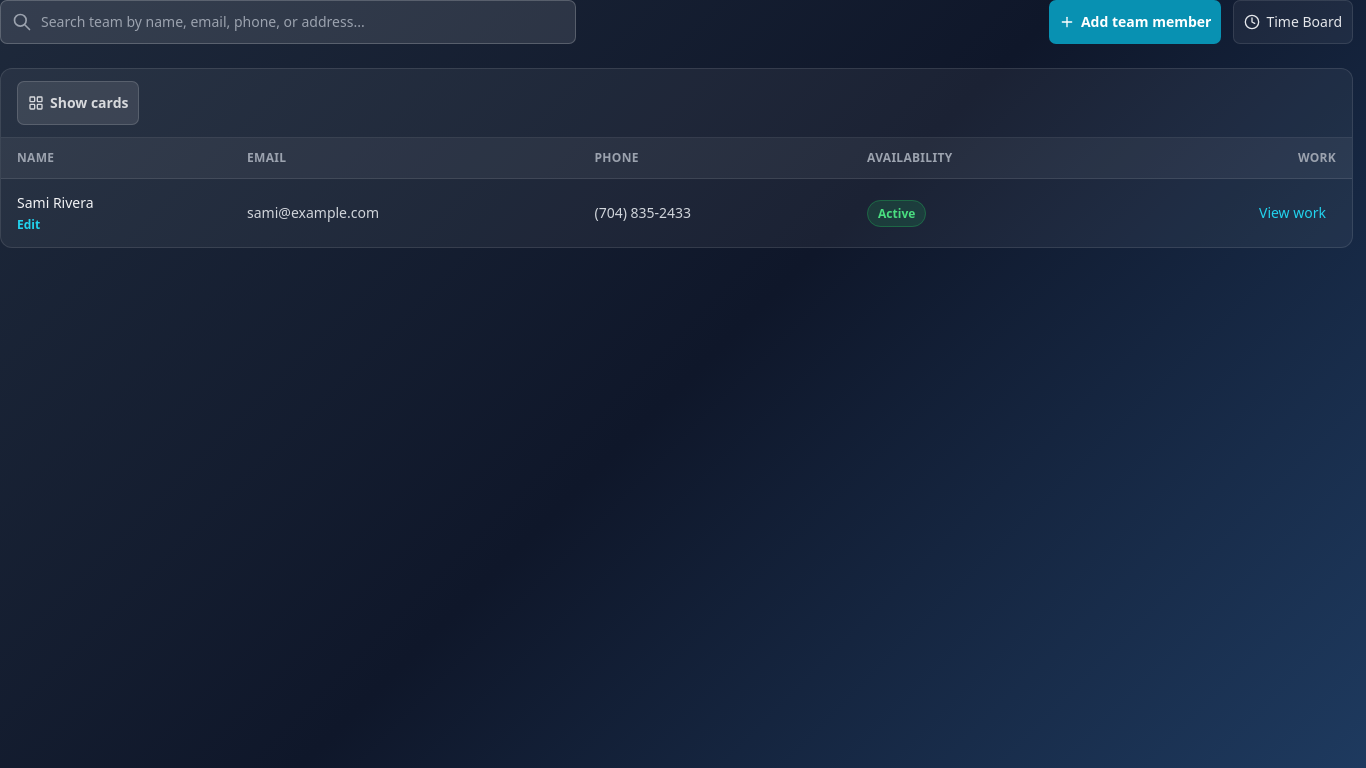
Scenario: MechanicsPage technician editing › keeps the technician dialog outside the scrolling team surface and cancels without saving
The width and height of the screenshot is (1366, 768).
Click the button "Edit" at [116, 225], box [17,217,215,233]
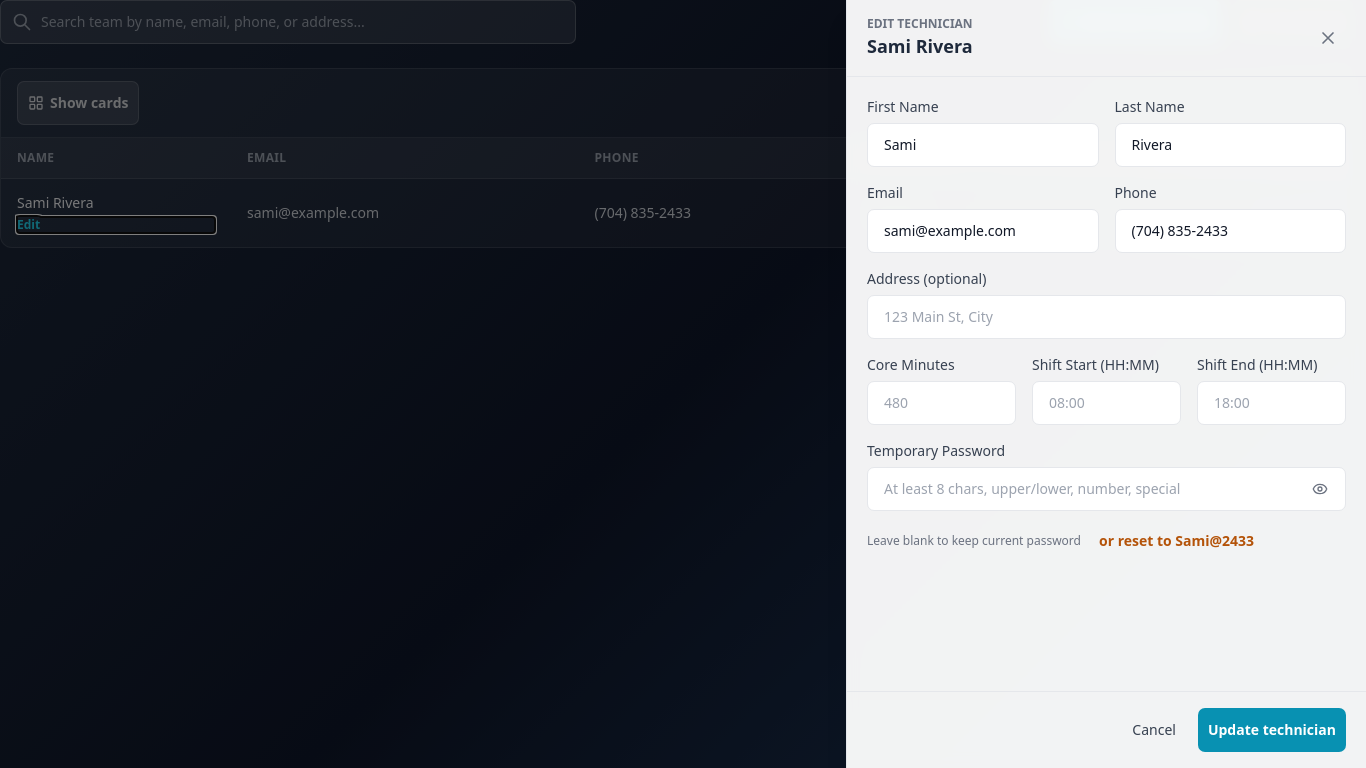
expect the element named "Edit technician" is shown: met, box [0,0,1365,248]
Click the button "Cancel" at [1154, 730], box [1122,708,1186,752]
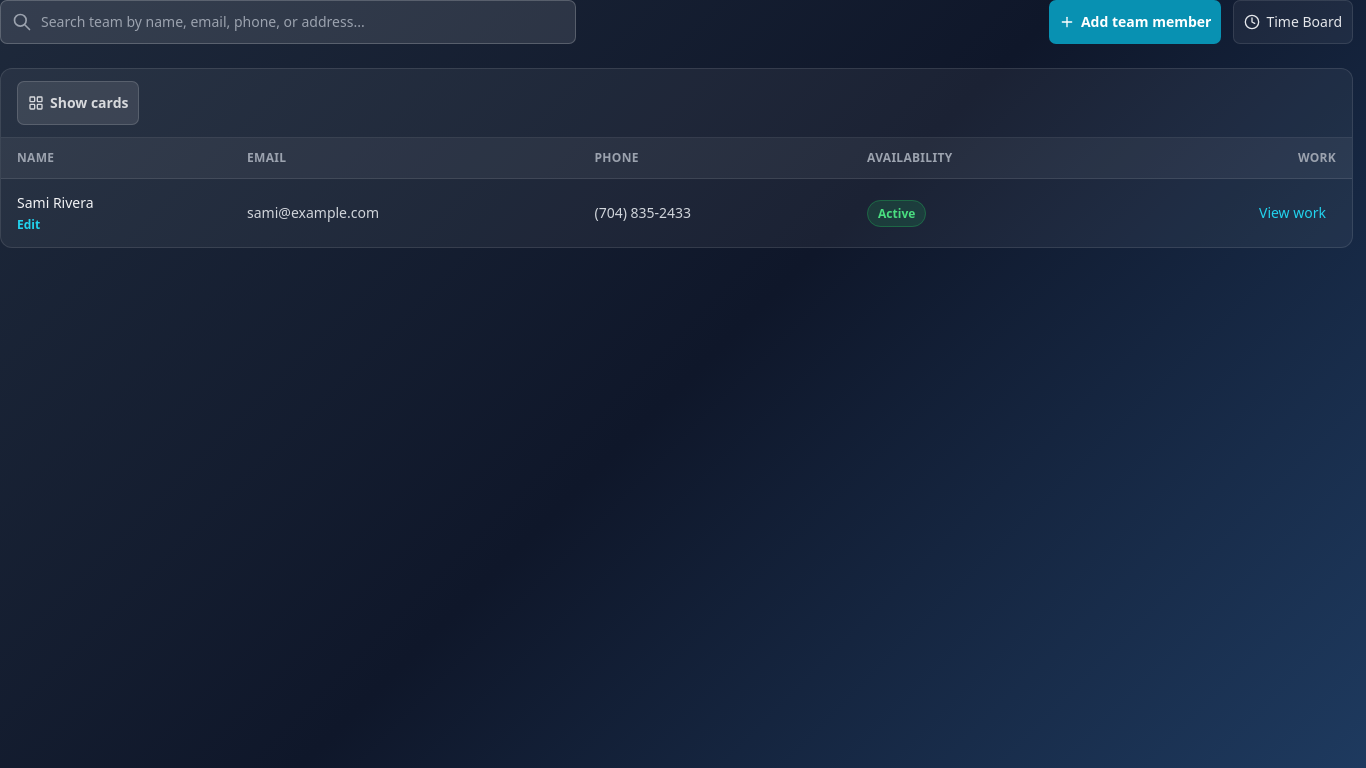
expect the text "Edit technician" is gone: met
